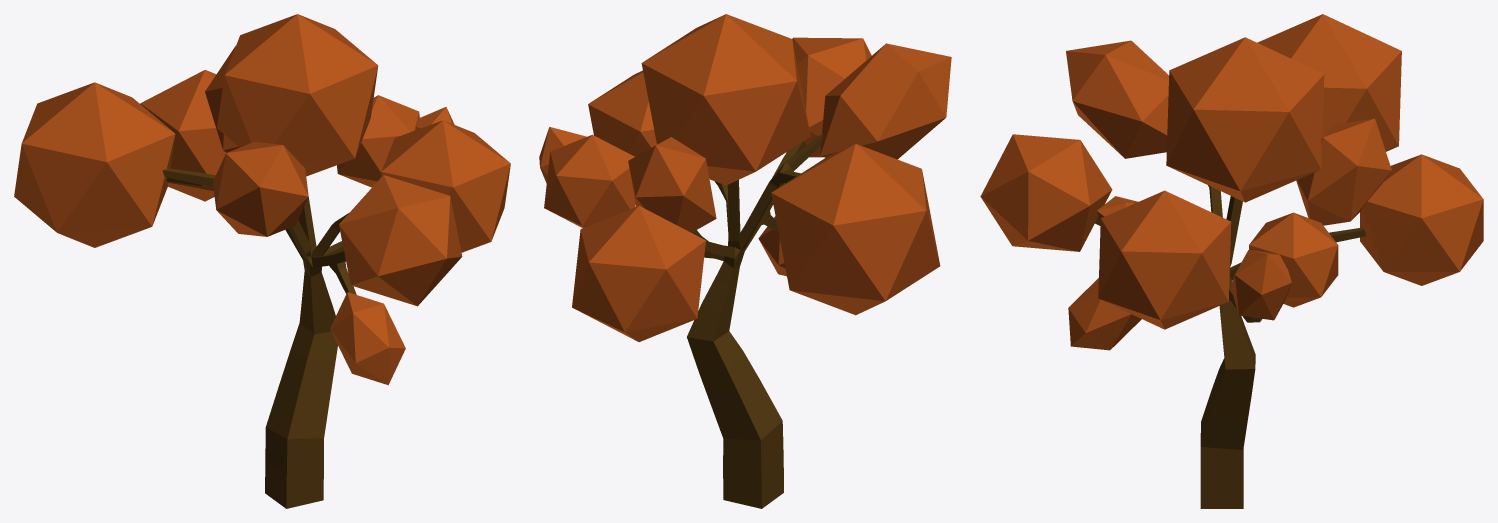
Rendered from Tree3.fbx.
The picture shows the model from 3 angles, left to right: view 1: azimuth 30°, elevation 25°; view 2: azimuth 150°, elevation 25°; view 3: azimuth 270°, elevation 25°; orthographic projection. The views are drawn at different scales.
Visible parts, largest first — view 1: Icosphere.013, Icosphere.015, Cube.001, Icosphere.011, Icosphere.009, Icosphere.014, Icosphere.017, Icosphere.012, Icosphere.007, Icosphere.006; view 2: Icosphere.013, Icosphere.015, Cube.001, Icosphere.017, Icosphere.014, Icosphere.007, Icosphere.006, Icosphere.011, Icosphere.009, Icosphere.008, Icosphere.012; view 3: Icosphere.015, Icosphere.009, Icosphere.017, Icosphere.011, Icosphere.013, Cube.001, Icosphere.014, Icosphere.006, Icosphere.007, Icosphere.008, Icosphere.012.
Boxes of the visible parts, box(x1,y1,x2,y2) form: Icosphere.013: box(14, 82, 175, 247); Icosphere.015: box(217, 14, 378, 176); Cube.001: box(162, 168, 356, 508); Icosphere.011: box(339, 175, 462, 306); Icosphere.009: box(380, 120, 510, 252); Icosphere.014: box(213, 142, 308, 236); Icosphere.017: box(140, 70, 226, 201); Icosphere.012: box(330, 292, 405, 385); Icosphere.007: box(337, 95, 419, 187); Icosphere.006: box(205, 46, 239, 152); Icosphere.013: box(771, 144, 940, 315); Icosphere.015: box(641, 14, 810, 185); Cube.001: box(687, 133, 822, 508); Icosphere.017: box(572, 206, 705, 341); Icosphere.014: box(820, 43, 951, 159); Icosphere.007: box(544, 134, 635, 227); Icosphere.006: box(628, 137, 716, 232); Icosphere.011: box(786, 37, 871, 157); Icosphere.009: box(588, 70, 656, 156); Icosphere.008: box(539, 127, 586, 182); Icosphere.012: box(758, 216, 786, 276); Icosphere.015: box(1166, 37, 1324, 202); Icosphere.009: box(1098, 190, 1231, 329); Icosphere.017: box(1360, 154, 1483, 285); Icosphere.011: box(980, 134, 1112, 251); Icosphere.013: box(1257, 14, 1401, 151); Cube.001: box(1095, 185, 1365, 508); Icosphere.014: box(1066, 40, 1168, 158); Icosphere.006: box(1296, 118, 1391, 225); Icosphere.007: box(1249, 212, 1338, 307); Icosphere.008: box(1231, 250, 1291, 320); Icosphere.012: box(1068, 278, 1141, 350).
Size of the model in its own units: 18.91 by 20.91 by 20.29.
